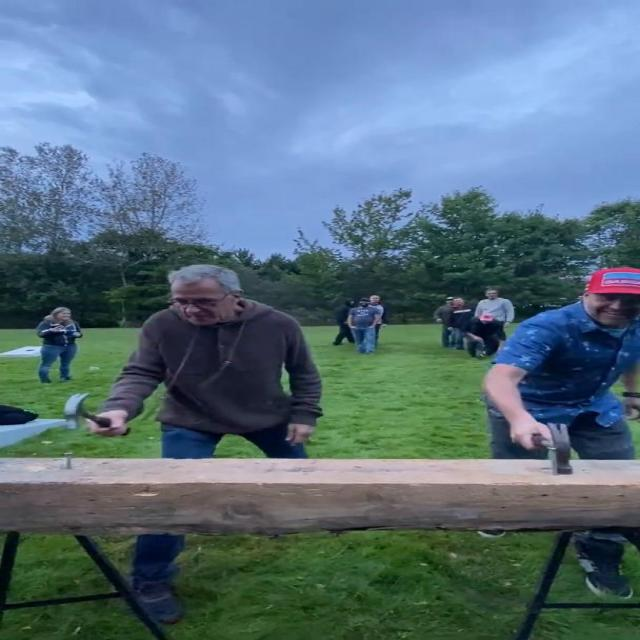hammer: (64, 394, 131, 436), (530, 422, 574, 476)
